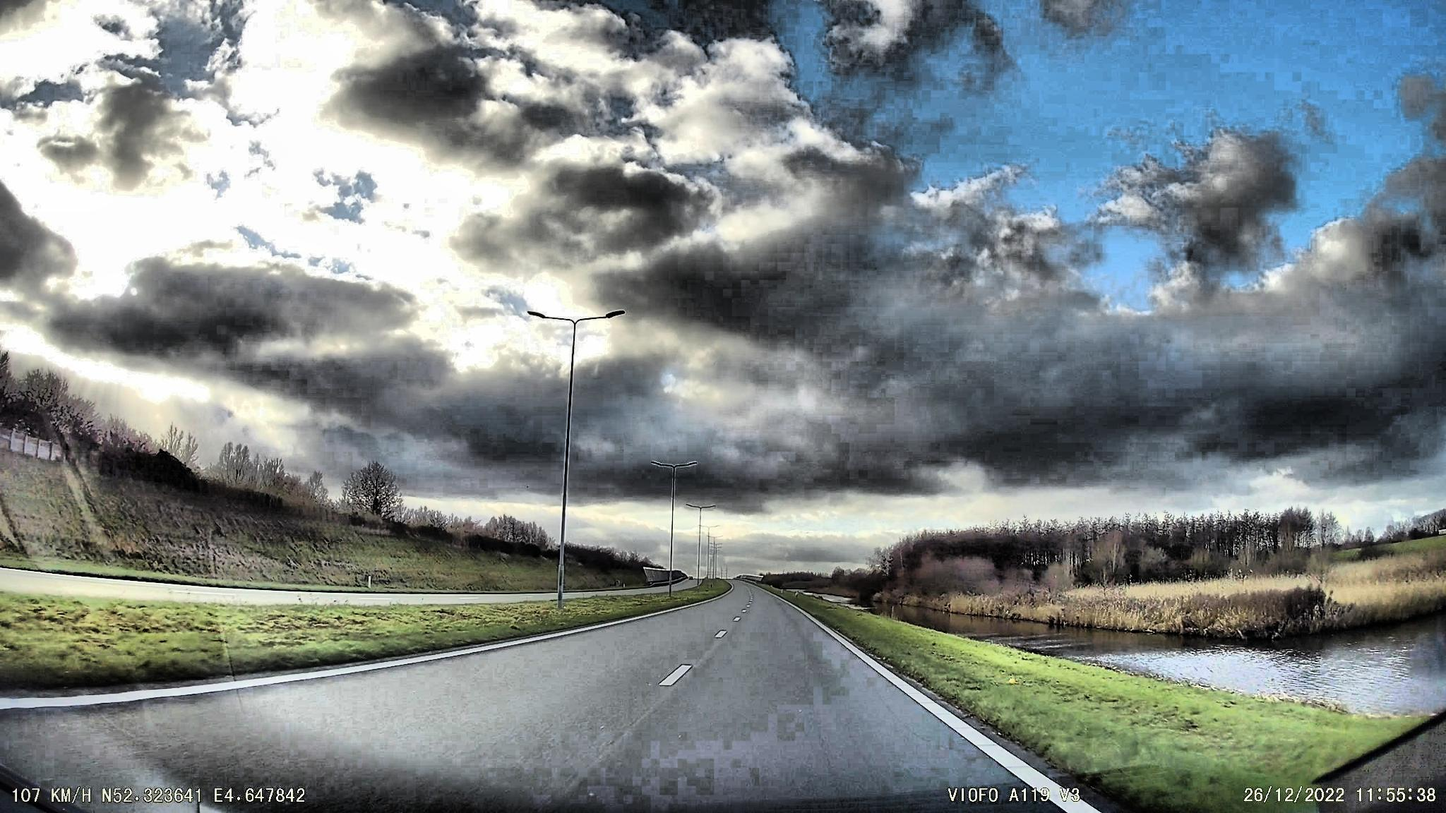Roads: (0, 581, 1142, 813)
